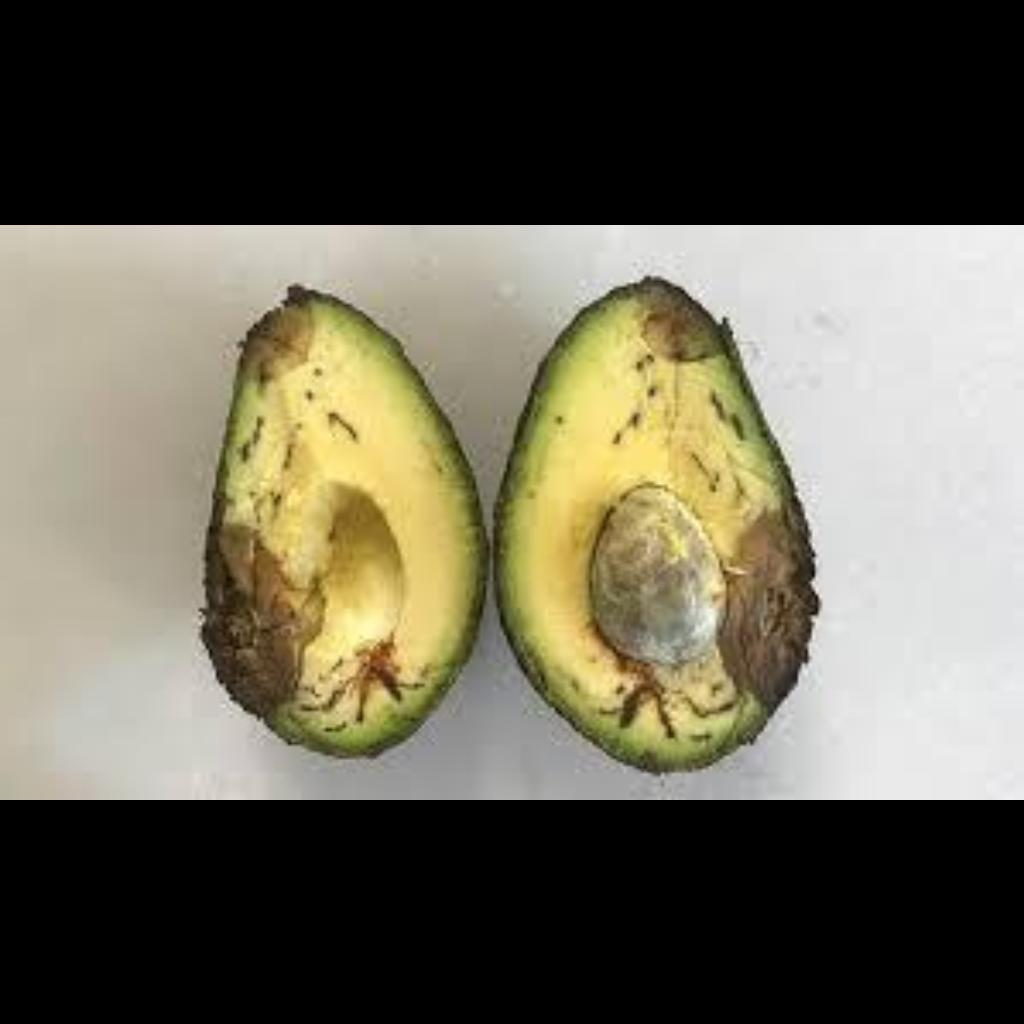antracnosis_fruto: (492, 295, 820, 740), (195, 282, 459, 782)
